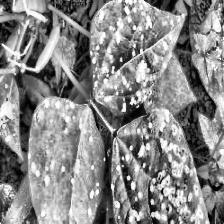Bean Rust: (107, 112, 223, 224), (87, 0, 184, 112), (26, 97, 109, 224), (0, 184, 52, 224)
